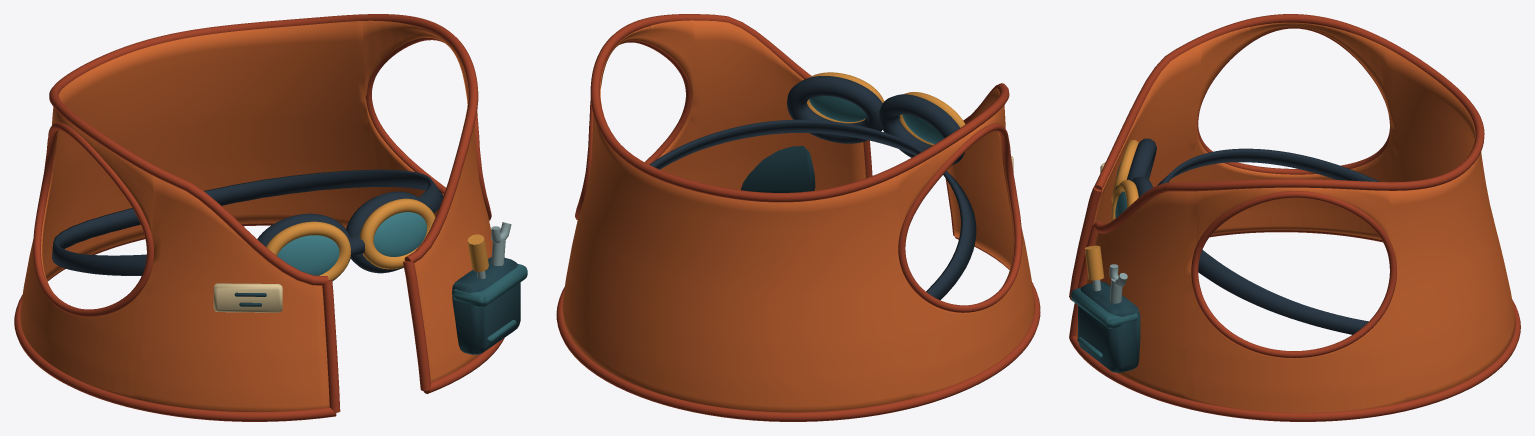
File: mole-arcade-repair.glb
The picture shows the model from 3 angles, left to right: view 1: azimuth 30°, elevation 25°; view 2: azimuth 150°, elevation 25°; view 3: azimuth 270°, elevation 25°; orthographic projection. The views are drawn at different scales.
Visible parts, largest first — view 1: Body, Head; view 2: Body, Head; view 3: Body, Head.
Part boxes in pixels (bbox=[...]): Body: bbox=[14, 14, 527, 421]; Head: bbox=[52, 169, 443, 281]; Body: bbox=[556, 14, 1040, 421]; Head: bbox=[649, 72, 976, 300]; Body: bbox=[1069, 14, 1520, 421]; Head: bbox=[1111, 138, 1379, 334].
Size of the model in its own units: 2.01 by 1.14 by 1.98.
